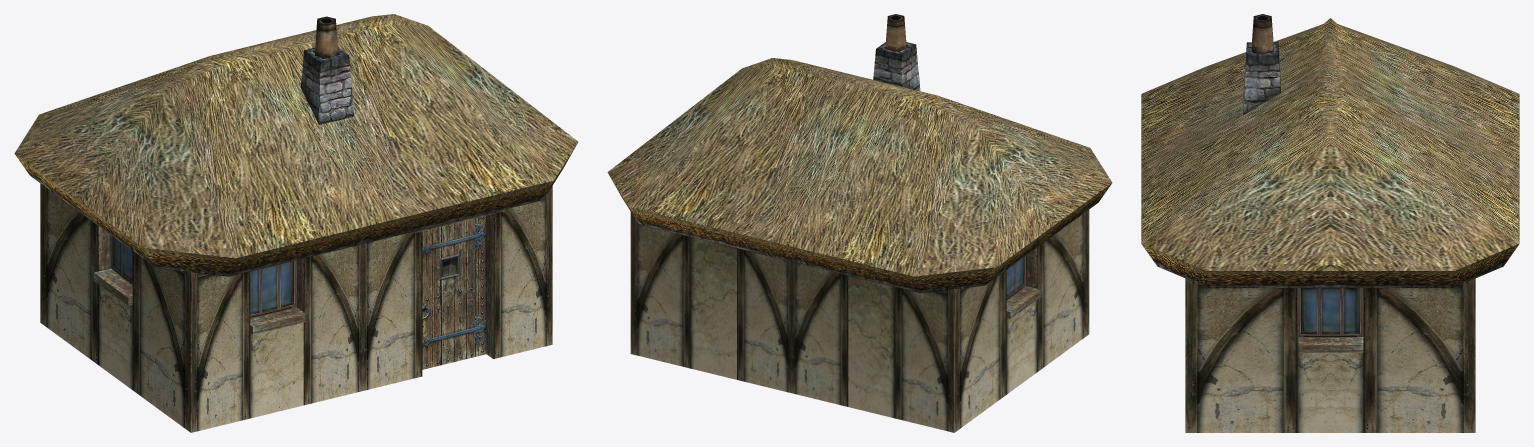
Rendered from S_home21.glb.
The picture shows the model from 3 angles, left to right: view 1: azimuth 30°, elevation 25°; view 2: azimuth 150°, elevation 25°; view 3: azimuth 270°, elevation 25°; orthographic projection. The views are drawn at different scales.
Visible parts, largest first — view 1: S_home21; view 2: S_home21; view 3: S_home21.
Boxes of the visible parts, x1,y1,x2,y2 form: S_home21: (14, 14, 578, 432); S_home21: (607, 14, 1112, 432); S_home21: (1141, 14, 1519, 432).
Size of the model in its own units: 7.34 by 5.48 by 5.74.
Materials: 8 (8 with a texture image).
